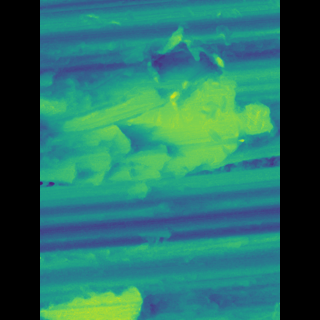Loch: (69, 15, 252, 199), (71, 283, 150, 320)
